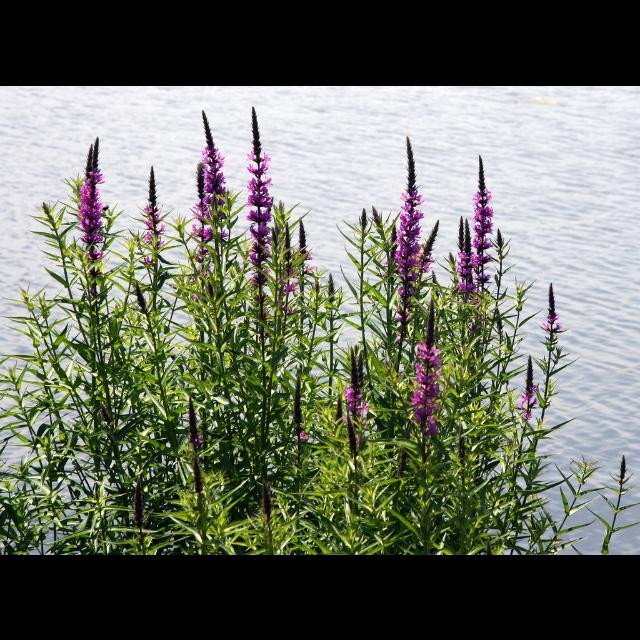Flower: (342, 128, 570, 444), (248, 100, 314, 338), (188, 104, 230, 298), (74, 132, 106, 298), (141, 157, 167, 270), (187, 431, 207, 451), (298, 428, 316, 448)
